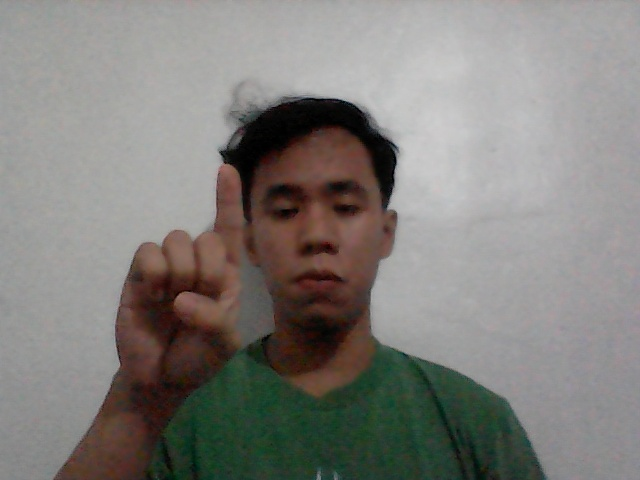D: (80, 152, 285, 416)
